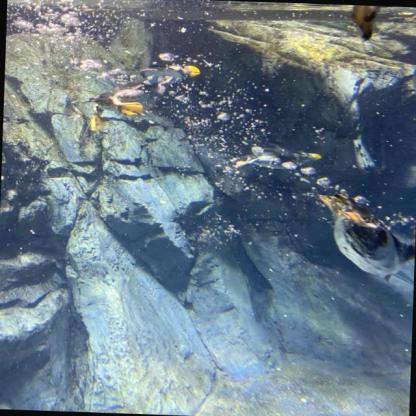puffin: (69, 53, 205, 135), (313, 190, 415, 284), (228, 144, 326, 173)
